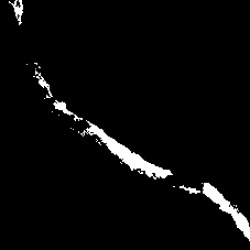crack: (32, 60, 173, 180), (175, 180, 249, 240), (11, 4, 25, 28)
